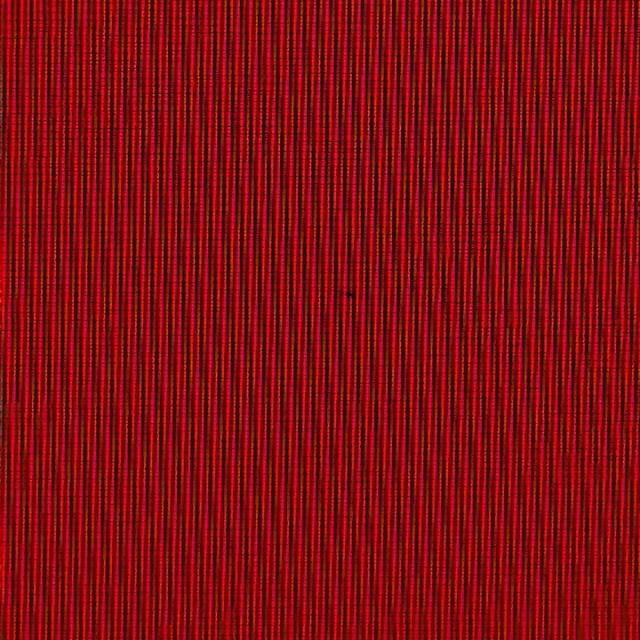Dead pixel: (345, 291, 357, 297)
